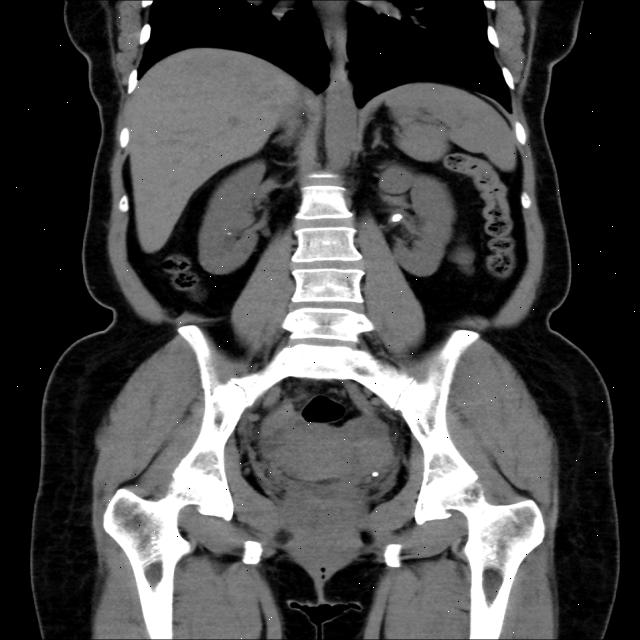kidneystone: (390, 212, 403, 222)
